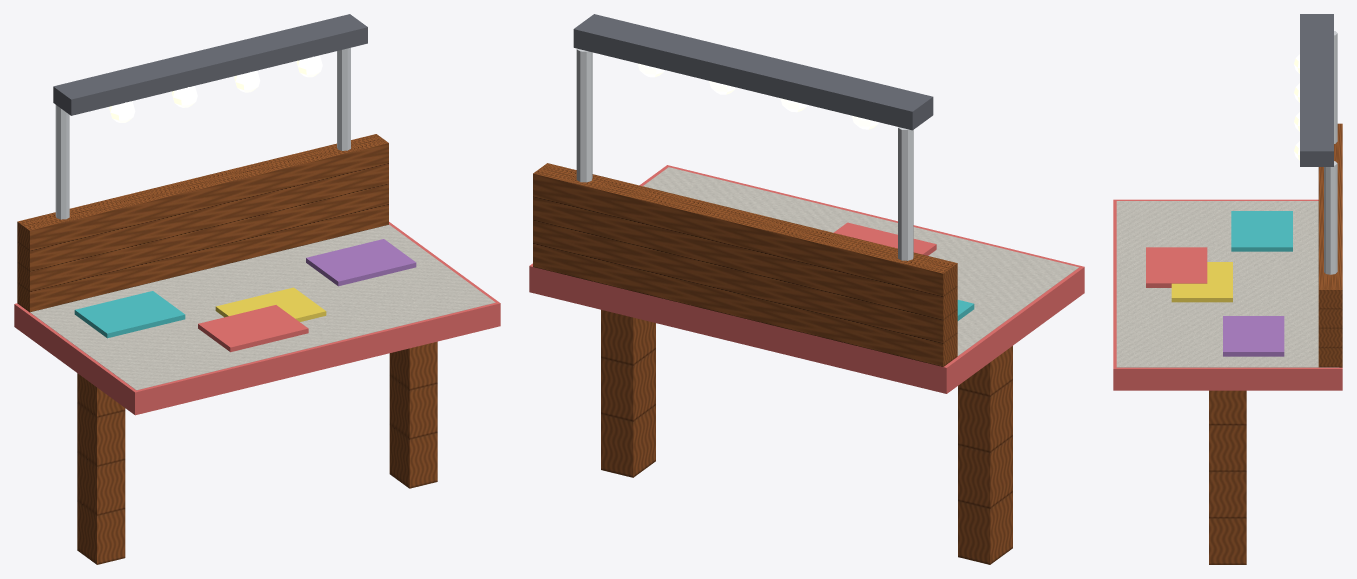
The model's file is theme-park-rides-and-coasters-theme-park-rides-and-coa-3d749f6f__28676.glb.
3 views of the same model, side by side, from view 1: azimuth 30°, elevation 25°; view 2: azimuth 150°, elevation 25°; view 3: azimuth 270°, elevation 25° (orthographic). The views are drawn at different scales.
Parts seen in each view (by area): view 1: theme-park-rides-and-coasters-park-map-board; view 2: theme-park-rides-and-coasters-park-map-board; view 3: theme-park-rides-and-coasters-park-map-board.
Boxes of the visible parts, x1,y1,x2,y2 form: theme-park-rides-and-coasters-park-map-board: (14,14,500,564); theme-park-rides-and-coasters-park-map-board: (529,14,1084,564); theme-park-rides-and-coasters-park-map-board: (1113,14,1342,564).
Bounding box in the file's own units: 2.34 × 2.6 × 1.34.
9 materials, 2 textured.
